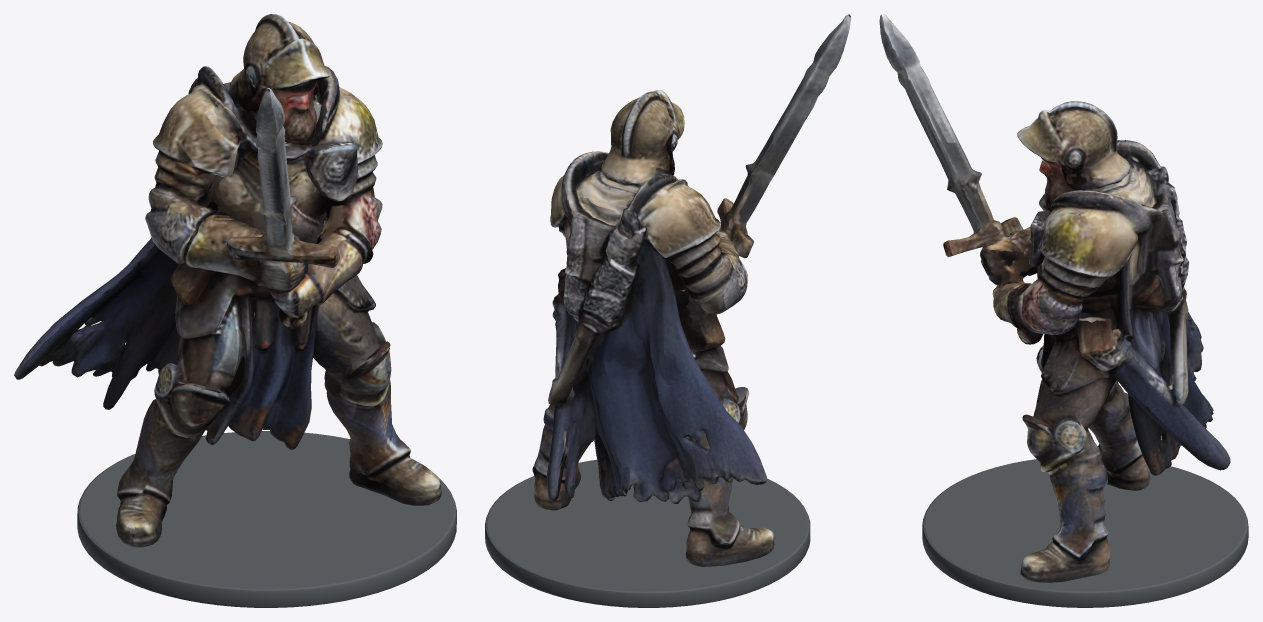
Rendered from veteran.glb.
The picture shows the model from 3 angles, left to right: view 1: azimuth 30°, elevation 25°; view 2: azimuth 150°, elevation 25°; view 3: azimuth 270°, elevation 25°; orthographic projection. The views are drawn at different scales.
Parts seen in each view (by area): view 1: veteran_body, veteran_round_base; view 2: veteran_body, veteran_round_base; view 3: veteran_body, veteran_round_base.
Part boxes in pixels (x1,y1,x2,y2): veteran_body: [14, 14, 441, 547]; veteran_round_base: [77, 431, 456, 607]; veteran_body: [532, 14, 850, 566]; veteran_round_base: [485, 459, 810, 607]; veteran_body: [879, 14, 1230, 582]; veteran_round_base: [922, 459, 1248, 607].
Size of the model in its own units: 1.1 by 1.61 by 1.13.
Materials: 2 (1 with a texture image).
